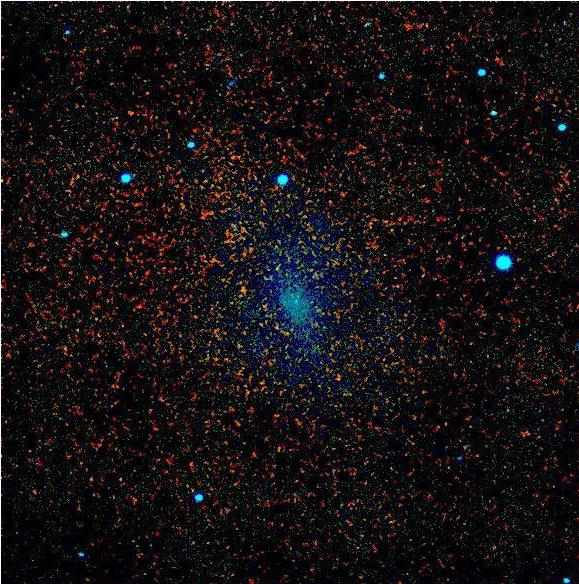star: (228, 275, 258, 305)
